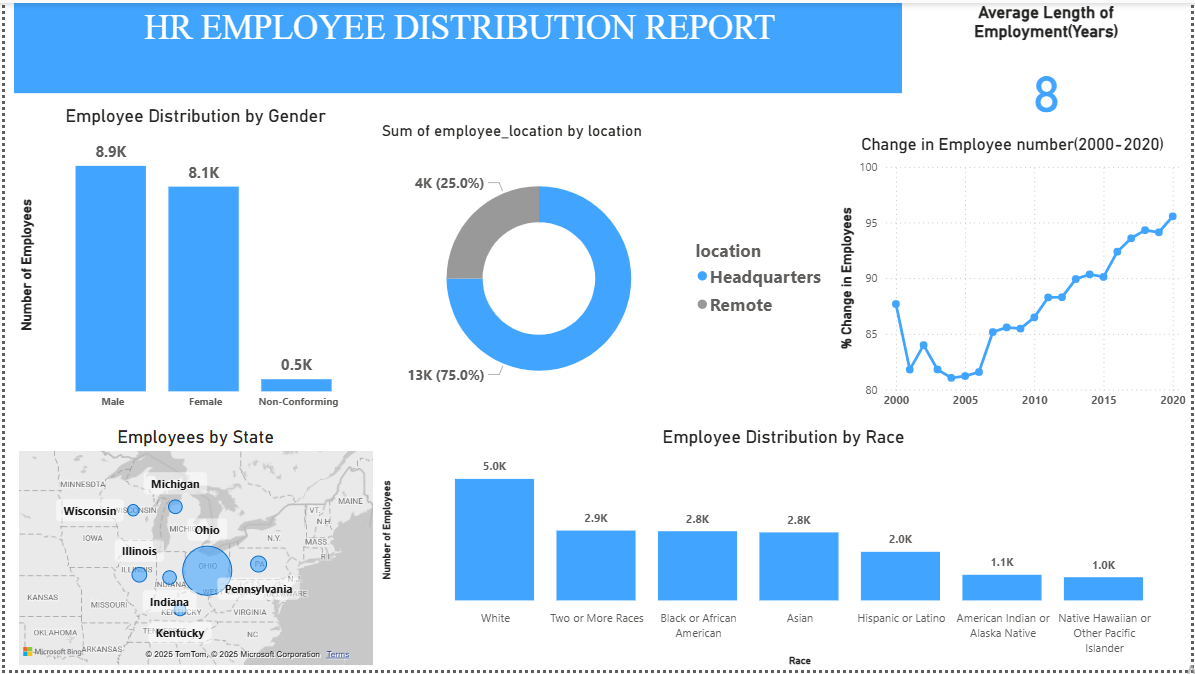

Layout of this report page (visuals, bound fields, positions):
{"tool":"powerbi","page":{"name":"Page 1","canvas":[1280,720],"ordinal":0},"visuals":[{"type":"textbox","box":[9.7,0,958.6,97.2],"z":0},{"type":"card","title":"Average Length of Employment(Years)","fields":{"Values":["Sum(Avg_length_employment.avg_length_employment)"]},"box":[968.3,0,310.9,142.5],"z":1000},{"type":"columnChart","title":"Employee Distribution by Gender","fields":{"Category":["Gender_breakdown.gender"],"Y":["Sum(Gender_breakdown.gender_breakdown)"]},"box":[9.7,110.1,391.9,336.8],"z":2000},{"type":"donutChart","fields":{"Category":["Employee_location.location"],"Y":["Sum(Employee_location.employee_location)"]},"box":[401.6,127.9,493.9,319],"z":3000},{"type":"lineChart","title":"Change in Employee number(2000-2020)","fields":{"Y":["Sum(employee_change.net_change_percent)"],"Category":["employee_change.year"]},"box":[895.4,142.5,383.8,304.4],"z":4000},{"type":"map","title":"Employees by State","fields":{"Size":["Sum(City_state.employee_count)"],"Category":["City_state.location_state"]},"box":[10,457,392,263],"z":5000},{"type":"clusteredColumnChart","title":"Employee Distribution by Race","fields":{"Y":["Sum(Race_breakdown.count_race_breakdown)"],"Category":["Race_breakdown.race"]},"box":[401.6,456.6,877.6,263.9],"z":6000}]}

Visuals, with their boxes in screenshot pixels (x1, y1, x2, y2), scaled from the page's 1280x720 canvas onto the 1195x674 screenshot:
textbox: bbox=(9, 0, 904, 91)
"Average Length of Employment(Years)" card: bbox=(904, 0, 1194, 133)
"Employee Distribution by Gender" columnChart: bbox=(9, 103, 375, 418)
donutChart - Employee_location.location x Sum(Employee_location.employee_location): bbox=(375, 120, 836, 418)
"Change in Employee number(2000-2020)" lineChart: bbox=(836, 133, 1194, 418)
"Employees by State" map: bbox=(9, 428, 375, 673)
"Employee Distribution by Race" clusteredColumnChart: bbox=(375, 427, 1194, 673)
